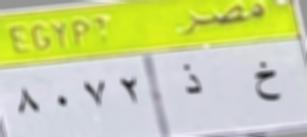0: (54, 83, 73, 118)
2: (118, 76, 141, 108)
7: (84, 75, 109, 113)
8: (13, 86, 41, 118)
khaa: (248, 56, 284, 104)
zaal: (177, 61, 207, 99)
